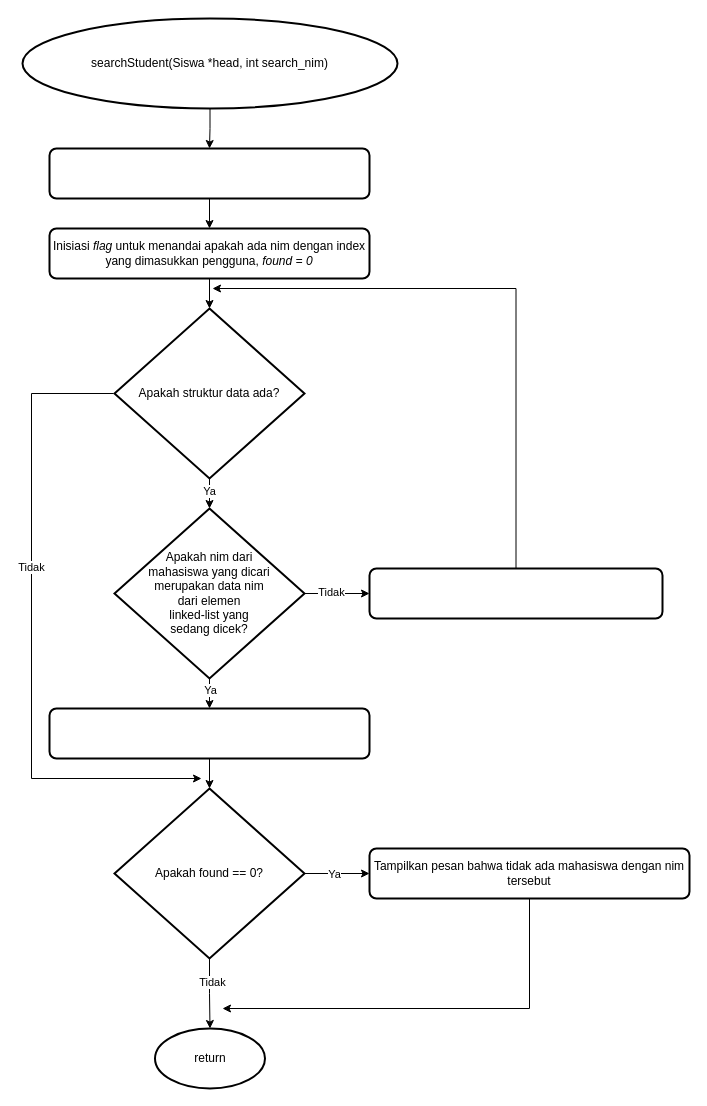
Image size: 707x1106. Some labels were removed from this diagram. The shapes that lost their labels are listed below. From the top down, each one's centre as x and y in pixels, then its label:
the point at 209,173: Inisiasi struktur data Siswa untuk menyimpan data-data pada linked-list
the point at 515,593: Assign elemen linked-list yang sekarang dengan elemen linked selanjutnya
the point at 209,733: Menampilkan semua data pada elemen linked-list
